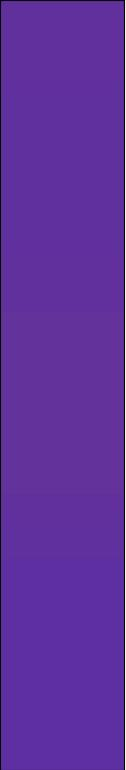safe: (14, 14, 114, 750)
